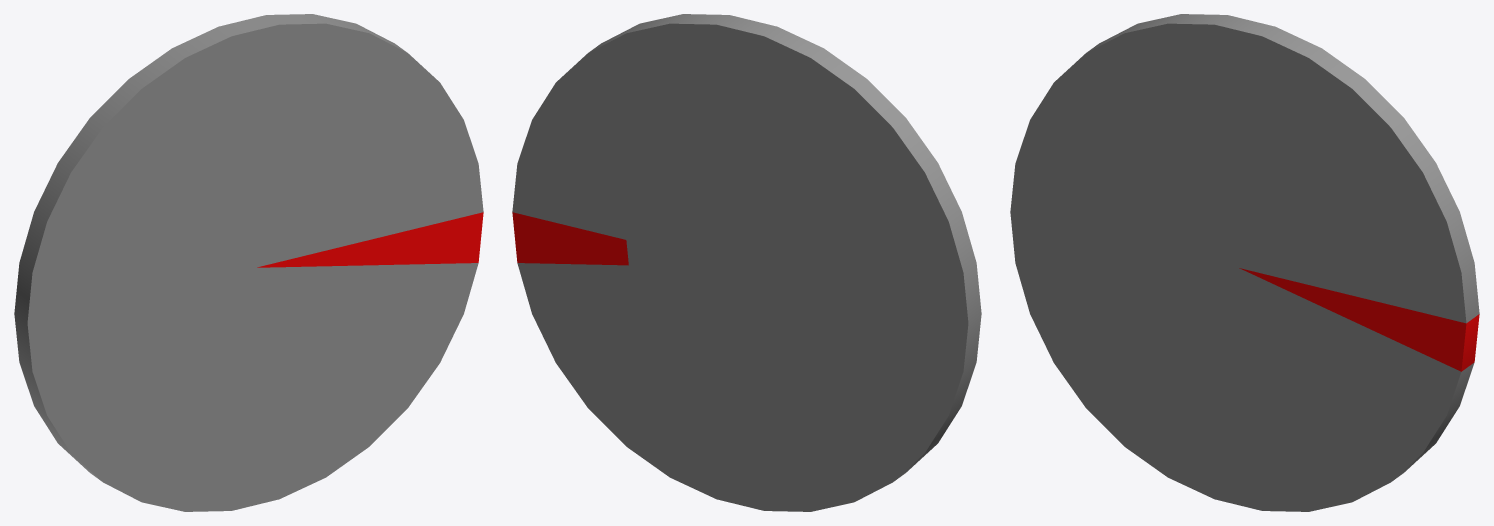
File: Door.FBX
3 views of the same model, side by side, from view 1: azimuth 30°, elevation 25°; view 2: azimuth 150°, elevation 25°; view 3: azimuth 330°, elevation 25° (orthographic).
Visible parts, largest first — view 1: Cylinder001; view 2: Cylinder001; view 3: Cylinder001.
Part boxes in pixels (<box>): Cylinder001: <box>14,14,483,511</box>; Cylinder001: <box>512,14,981,511</box>; Cylinder001: <box>1010,14,1479,511</box>.
Bounding box in the file's own units: 100 × 99.45 × 5.
